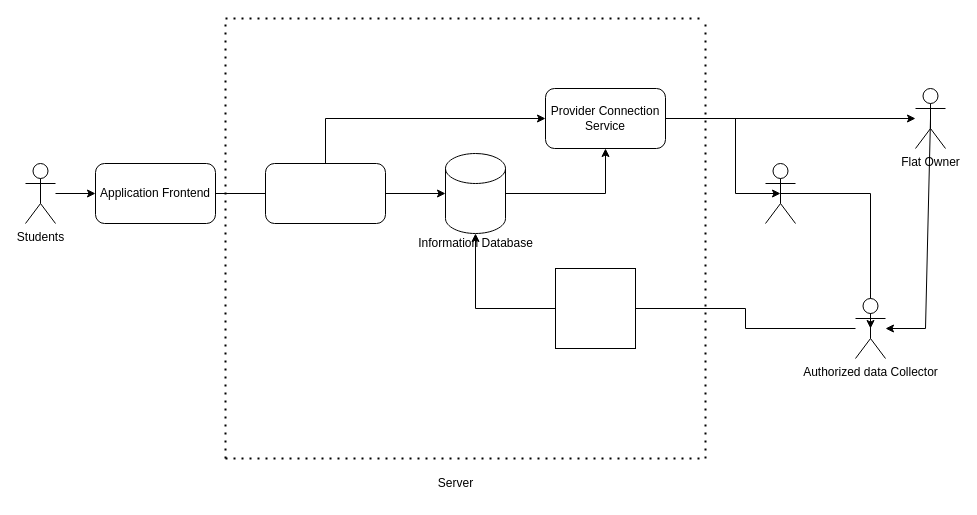
Some shapes in this 977 by 515 pixel diagram are drawn without their labels. Here are the shapes that lost their labels. From the top down, the centre of each, then its label:
At point (325, 193): "Application Backend".
At point (780, 193): "Service Provider".
At point (595, 308): "Data Updating WebApp".
